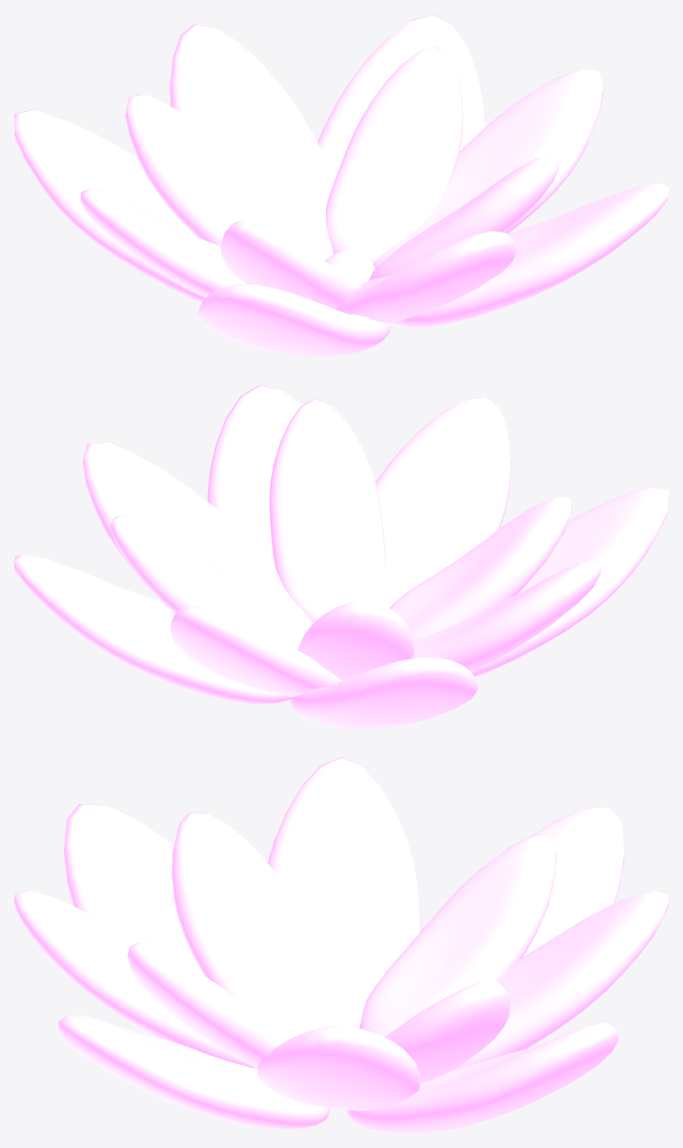
File: LilypadFlower.fbx
The picture shows the model from 3 angles, top to bottom: view 1: azimuth 30°, elevation 25°; view 2: azimuth 150°, elevation 25°; view 3: azimuth 270°, elevation 25°; orthographic projection. The views are drawn at different scales.
Visible parts, largest first — view 1: LilyPad_Flower; view 2: LilyPad_Flower; view 3: LilyPad_Flower.
Boxes of the visible parts, x1=… form: LilyPad_Flower: x1=14, y1=14, x2=668, y2=356; LilyPad_Flower: x1=14, y1=385, x2=668, y2=728; LilyPad_Flower: x1=14, y1=757, x2=668, y2=1133.
Bounding box in the file's own units: 11.56 × 4.12 × 11.56.
